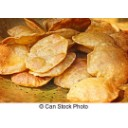poori: (26, 34, 68, 73), (86, 43, 128, 81), (67, 79, 119, 104), (1, 42, 30, 75), (71, 31, 116, 51), (10, 68, 54, 88), (48, 19, 92, 33), (7, 26, 32, 38)
